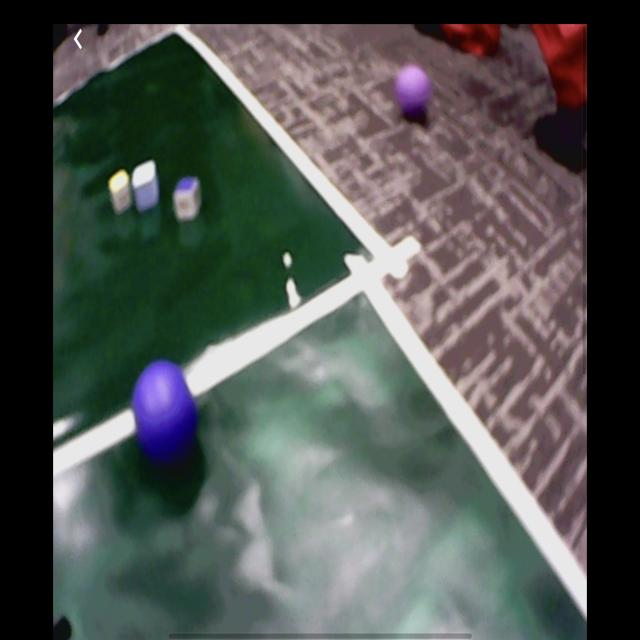ball: (134, 362, 196, 455), (396, 64, 432, 116)
